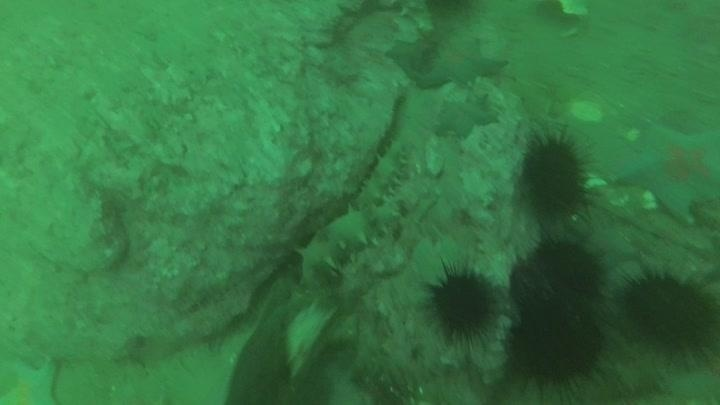echinus: (503, 296, 607, 395), (621, 267, 719, 363), (517, 131, 595, 222), (423, 263, 500, 345), (532, 236, 606, 298), (421, 1, 485, 27)
holothurian: (294, 198, 403, 287), (355, 137, 415, 210)
starfish: (612, 115, 720, 226), (417, 35, 509, 91), (431, 93, 499, 141), (1, 358, 62, 405)
